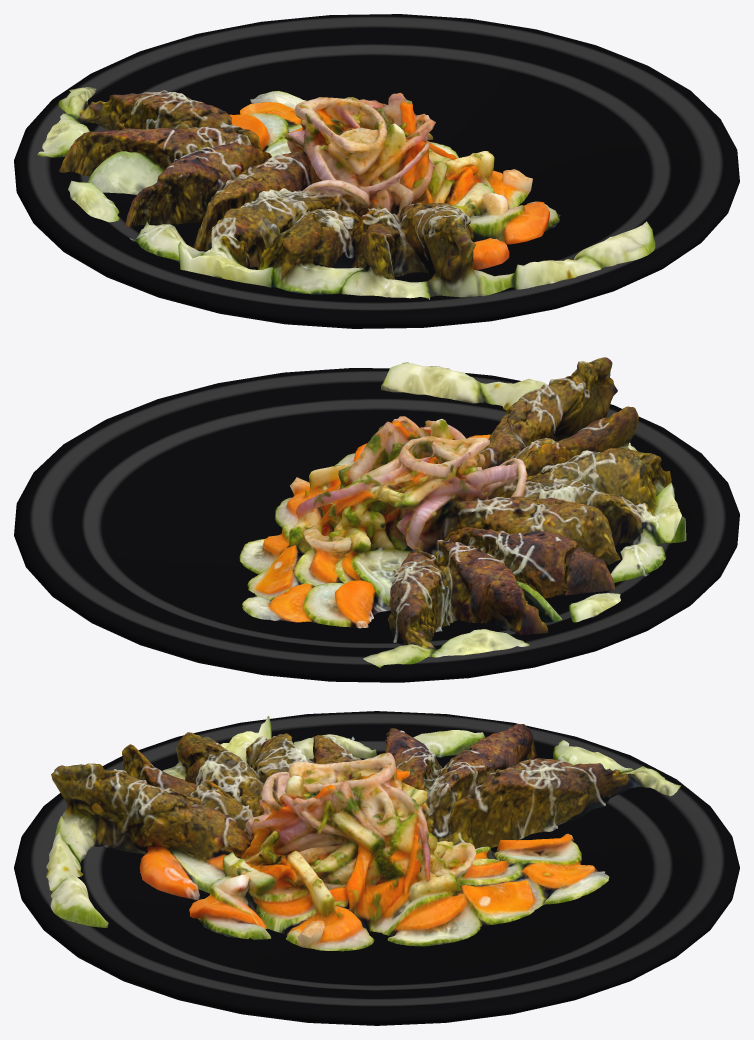
Rendered from 5799406a-078c-43db-adb1-209124113736.glb.
3 views of the same model, one above another, from view 1: azimuth 30°, elevation 25°; view 2: azimuth 150°, elevation 25°; view 3: azimuth 270°, elevation 25° (orthographic).
Parts seen in each view (by area): view 1: Big_Plate_02, pCube2; view 2: Big_Plate_02, pCube2; view 3: pCube2, Big_Plate_02.
Boxes of the visible parts, x1=… form: Big_Plate_02: x1=14, y1=14, x2=739, y2=328; pCube2: x1=37, y1=87, x2=655, y2=299; Big_Plate_02: x1=14, y1=368, x2=739, y2=682; pCube2: x1=239, y1=357, x2=686, y2=667; pCube2: x1=46, y1=716, x2=680, y2=951; Big_Plate_02: x1=14, y1=711, x2=739, y2=1025.
Size of the model in its own units: 0.257 by 0.0645 by 0.257.
Materials: 2 (2 with a texture image).
